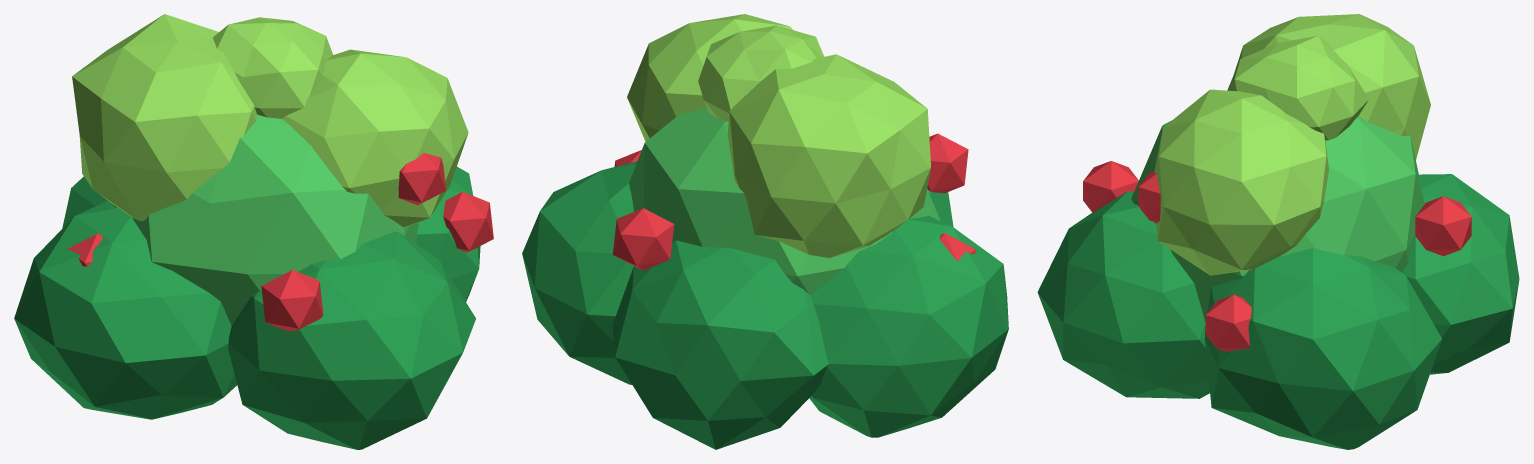
File: bush_round.fbx
The picture shows the model from 3 angles, left to right: view 1: azimuth 30°, elevation 25°; view 2: azimuth 150°, elevation 25°; view 3: azimuth 270°, elevation 25°; orthographic projection. The views are drawn at different scales.
Parts seen in each view (by area): view 1: Bush_Dark, Bush_Light, Bush_Mid, Bush_Berry; view 2: Bush_Dark, Bush_Light, Bush_Mid, Bush_Berry; view 3: Bush_Dark, Bush_Light, Bush_Mid, Bush_Berry.
Boxes of the visible parts, x1=… form: Bush_Dark: x1=14, y1=167, x2=480, y2=449; Bush_Light: x1=72, y1=14, x2=468, y2=227; Bush_Mid: x1=111, y1=114, x2=418, y2=325; Bush_Berry: x1=67, y1=153, x2=493, y2=331; Bush_Dark: x1=522, y1=161, x2=1008, y2=449; Bush_Light: x1=627, y1=14, x2=930, y2=257; Bush_Mid: x1=629, y1=108, x2=940, y2=295; Bush_Berry: x1=612, y1=133, x2=975, y2=270; Bush_Dark: x1=1037, y1=174, x2=1519, y2=449; Bush_Light: x1=1154, y1=14, x2=1430, y2=275; Bush_Mid: x1=1131, y1=116, x2=1424, y2=322; Bush_Berry: x1=1083, y1=161, x2=1471, y2=351.
Size of the model in its own units: 0.0623 by 0.046 by 0.0609.
